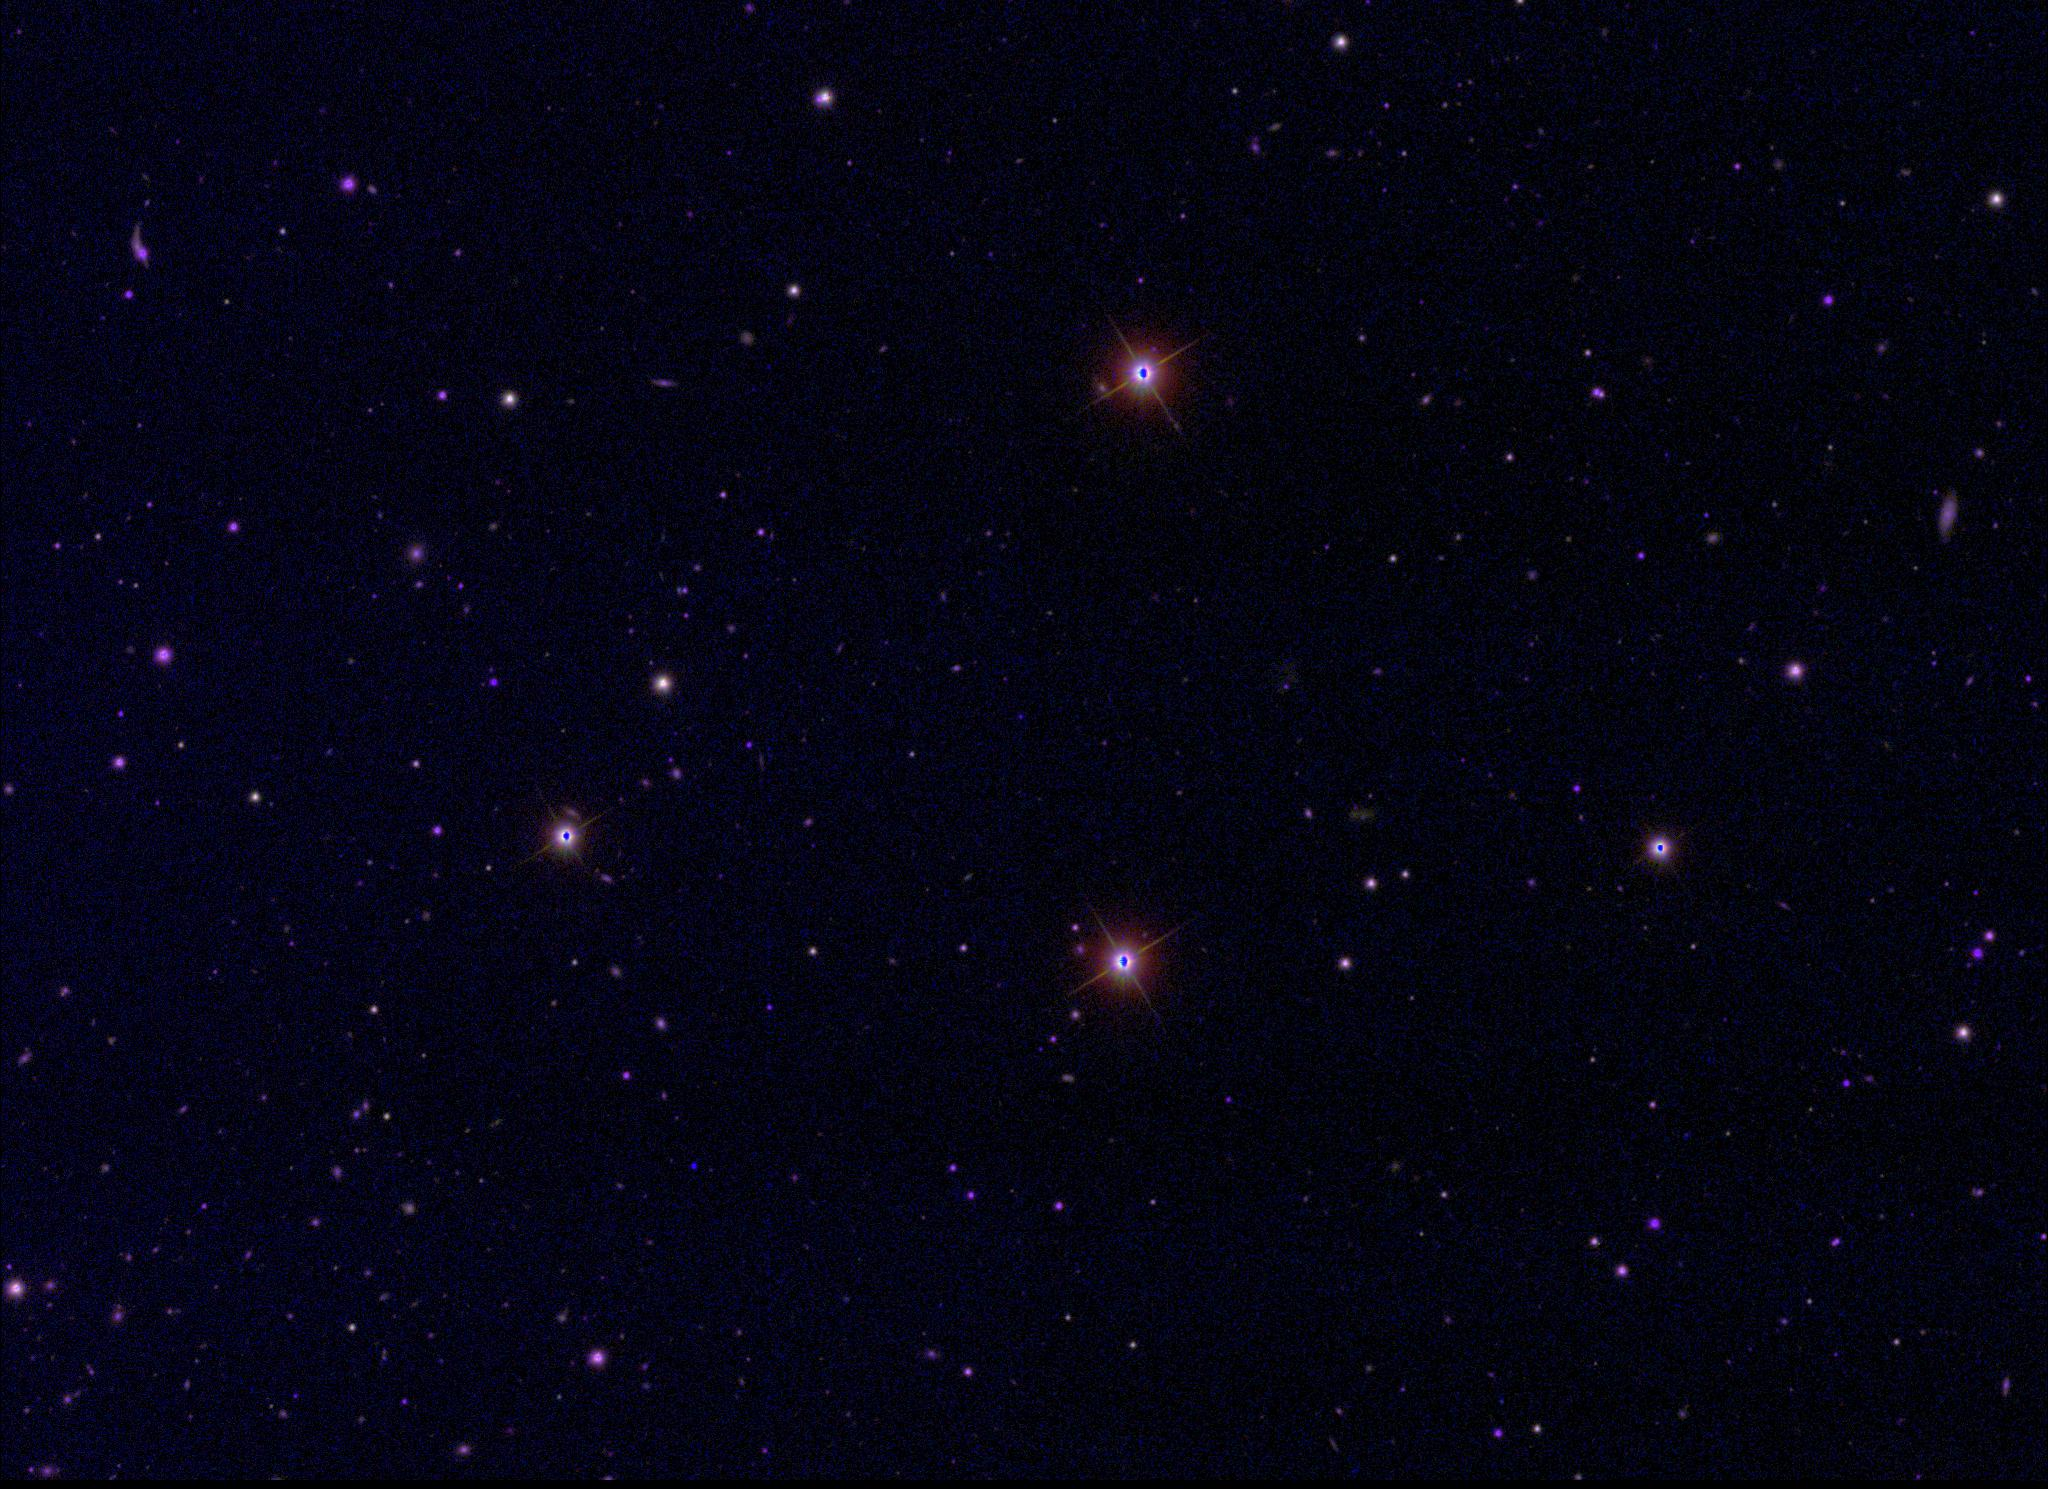L: (684, 1160, 698, 1172)
